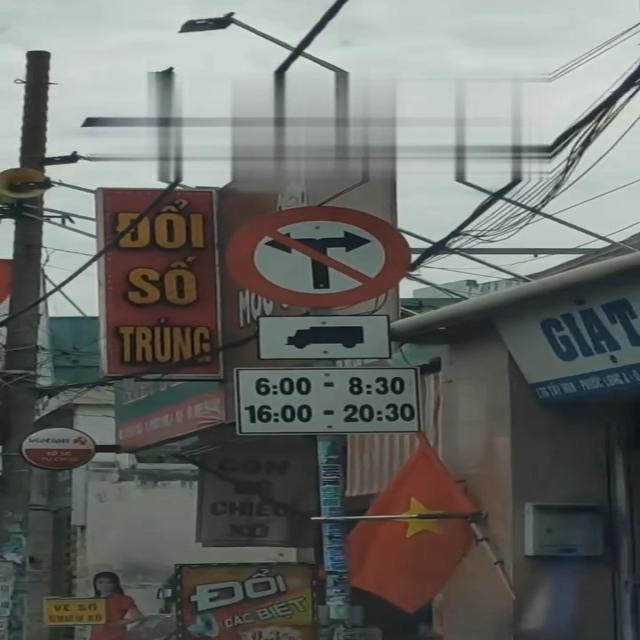137-cam-re-trai-va-re-phai: (222, 203, 414, 305)
